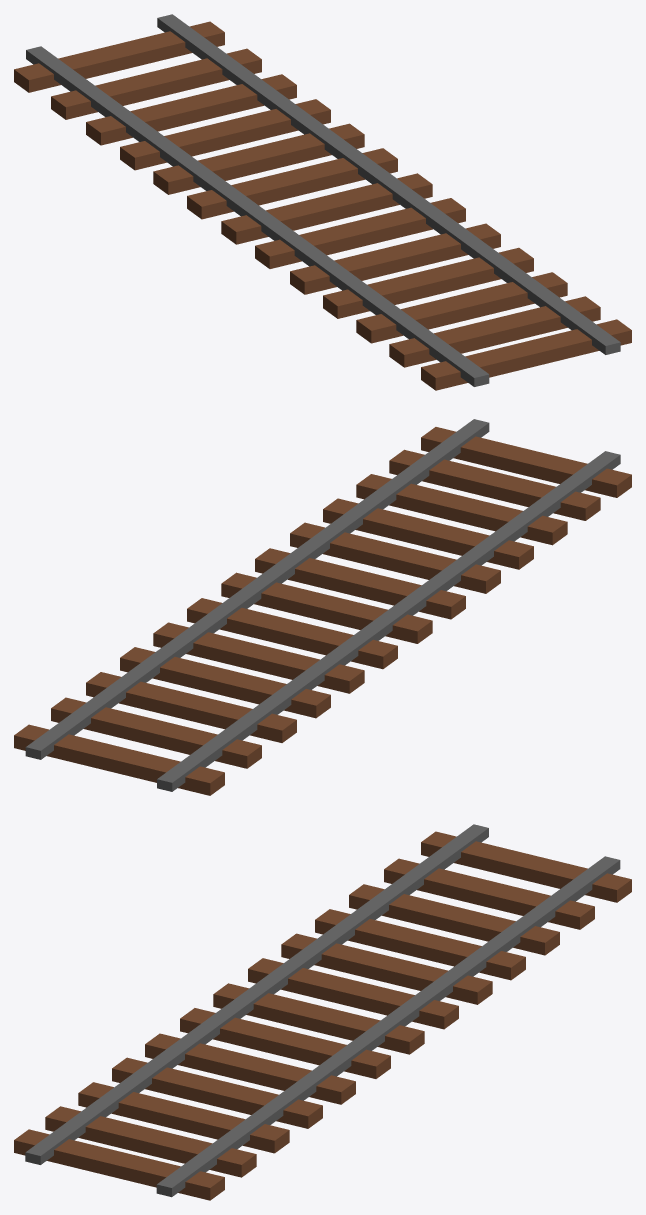
Rendered from Tracks.fbx.
3 views of the same model, one above another, from view 1: azimuth 30°, elevation 25°; view 2: azimuth 150°, elevation 25°; view 3: azimuth 330°, elevation 25° (orthographic).
Parts seen in each view (by area): view 1: Cube.092; view 2: Cube.092; view 3: Cube.092.
Part boxes in pixels (x1,y1,x2,y2): Cube.092: (14,14,631,390); Cube.092: (14,419,631,795); Cube.092: (14,824,631,1200).
Bounding box in the file's own units: 625 × 50.17 × 2471.
